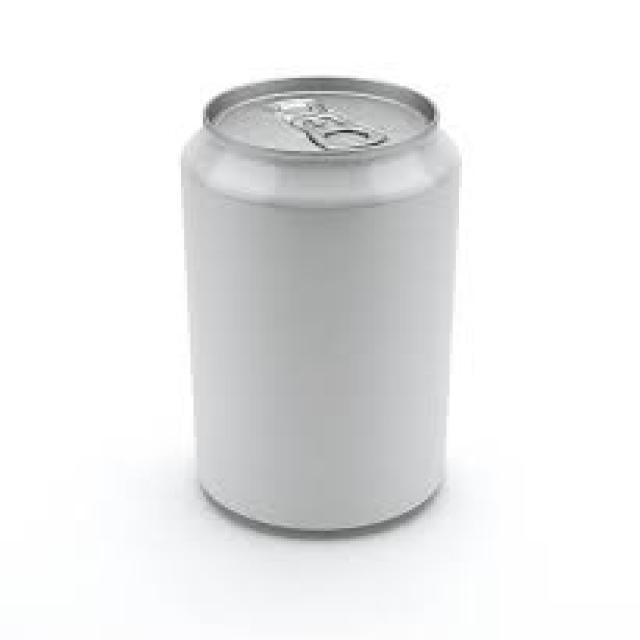Cans: (159, 65, 478, 546)
